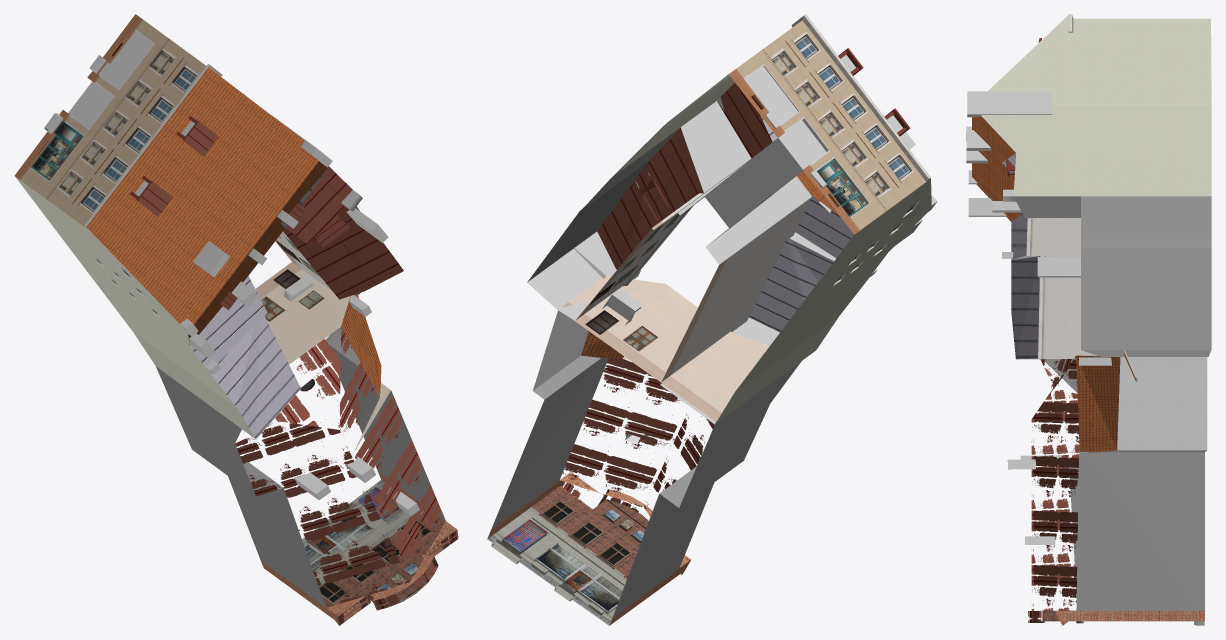
File: Pikk_5.obj
The picture shows the model from 3 angles, left to right: view 1: azimuth 30°, elevation 25°; view 2: azimuth 150°, elevation 25°; view 3: azimuth 270°, elevation 25°; orthographic projection. The views are drawn at different scales.
Visible parts, largest first — view 1: Pikk_5; view 2: Pikk_5; view 3: Pikk_5.
Boxes of the visible parts, bbox=[...] form: Pikk_5: bbox=[14, 14, 458, 625]; Pikk_5: bbox=[487, 14, 937, 625]; Pikk_5: bbox=[966, 14, 1211, 625].
Bounding box in the file's own units: 29.44 × 44.93 × 18.03.
